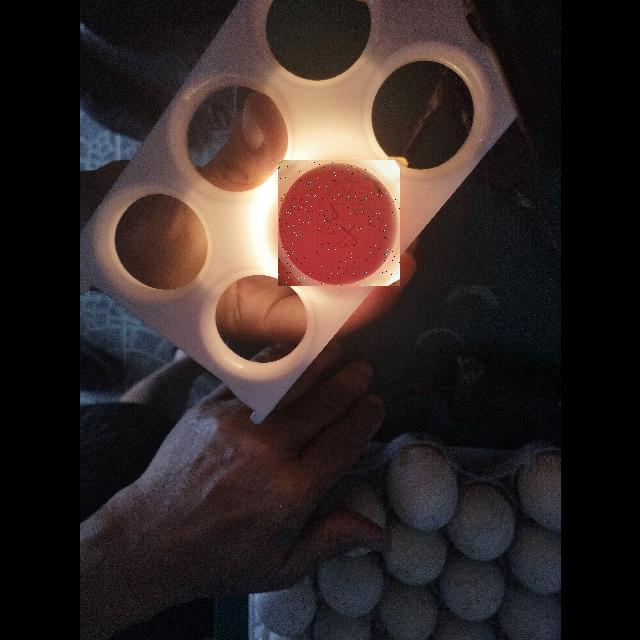Infertile: (278, 160, 400, 286)
